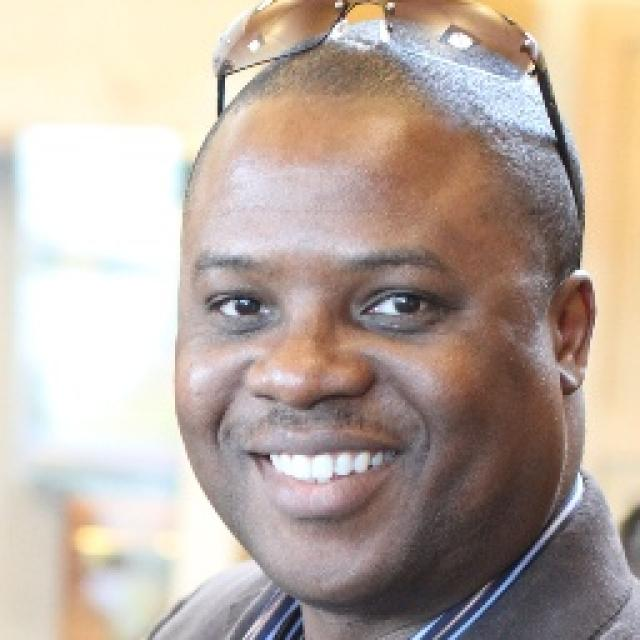earlobe: (552, 272, 598, 399)
